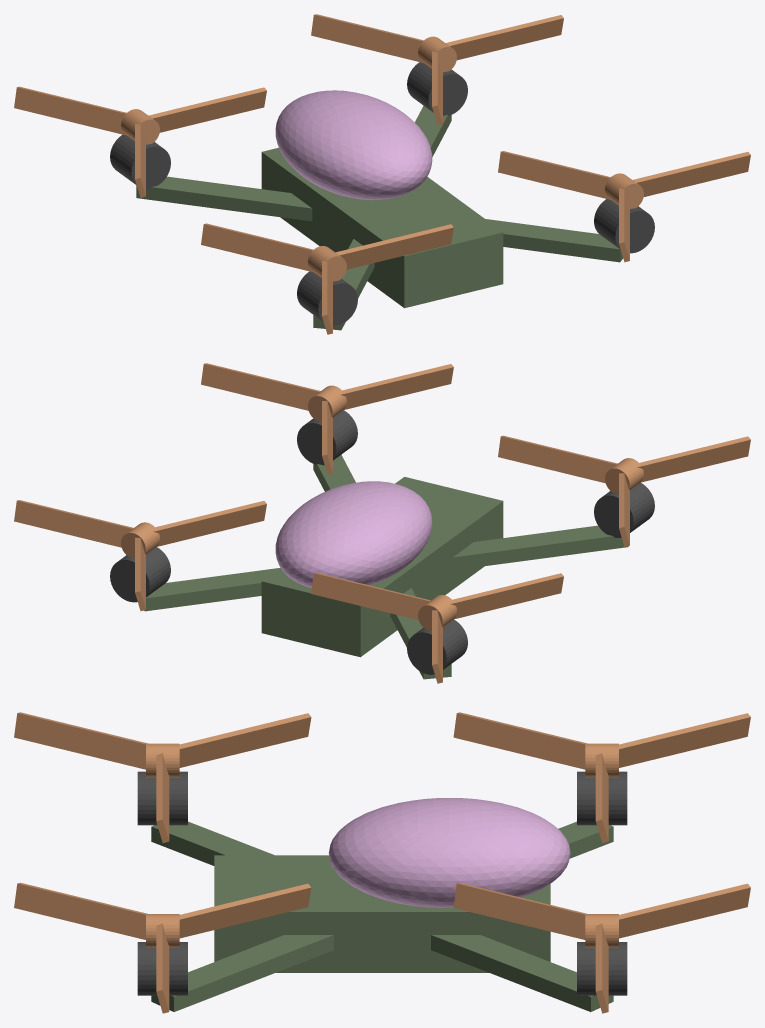
File: TBS Spec.glb
The picture shows the model from 3 angles, top to bottom: view 1: azimuth 30°, elevation 25°; view 2: azimuth 150°, elevation 25°; view 3: azimuth 270°, elevation 25°; orthographic projection. The views are drawn at different scales.
Visible parts, largest first — view 1: frame_body, canopy, prop_1, prop_0, prop_3, prop_2, arm_3, arm_0, motor_0, motor_1, motor_2, motor_3 (+2 smaller); view 2: frame_body, canopy, prop_0, prop_2, prop_1, prop_3, arm_2, arm_1, motor_1, motor_0, motor_3, motor_2 (+2 smaller); view 3: frame_body, canopy, prop_2, prop_3, prop_0, prop_1, arm_1, arm_0, arm_2, motor_3, motor_2, motor_1 (+2 smaller).
Part boxes in pixels (left/top/right/bottom): frame_body: left=261, top=147, right=503, bottom=308; canopy: left=275, top=90, right=432, bottom=200; prop_1: left=311, top=14, right=563, bottom=125; prop_0: left=498, top=151, right=750, bottom=262; prop_3: left=14, top=86, right=266, bottom=197; prop_2: left=201, top=223, right=453, bottom=334; arm_3: left=136, top=176, right=312, bottom=221; arm_0: left=485, top=219, right=622, bottom=262; motor_0: left=594, top=199, right=654, bottom=253; motor_1: left=407, top=62, right=467, bottom=115; motor_2: left=297, top=271, right=357, bottom=325; motor_3: left=110, top=134, right=170, bottom=188; frame_body: left=261, top=477, right=503, bottom=657; canopy: left=275, top=481, right=432, bottom=587; prop_0: left=201, top=363, right=453, bottom=474; prop_2: left=498, top=435, right=750, bottom=546; prop_1: left=14, top=500, right=266, bottom=611; prop_3: left=311, top=572, right=563, bottom=683; arm_2: left=452, top=525, right=628, bottom=570; arm_1: left=144, top=568, right=279, bottom=611; motor_1: left=110, top=547, right=170, bottom=602; motor_0: left=297, top=410, right=357, bottom=465; motor_3: left=407, top=619, right=467, bottom=674; motor_2: left=594, top=482, right=654, bottom=537; frame_body: left=214, top=855, right=550, bottom=972; canopy: left=328, top=798, right=570, bottom=907; prop_2: left=14, top=712, right=311, bottom=842; prop_3: left=453, top=712, right=750, bottom=842; prop_0: left=14, top=882, right=311, bottom=1013; prop_1: left=453, top=883, right=750, bottom=1013; arm_1: left=431, top=935, right=613, bottom=1011; arm_0: left=151, top=935, right=333, bottom=1011; arm_2: left=151, top=821, right=274, bottom=865; motor_3: left=577, top=771, right=627, bottom=825; motor_2: left=137, top=771, right=187, bottom=825; motor_1: left=577, top=942, right=627, bottom=995.
Bounding box in the file's own units: 0.1967 × 0.0444 × 0.2193.
